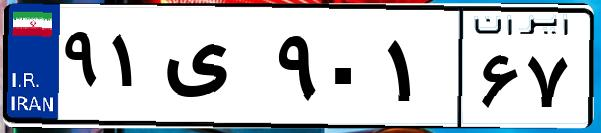0: (330, 28, 385, 110)
1: (385, 28, 445, 110), (110, 28, 158, 98)
6: (475, 38, 525, 113)
7: (525, 38, 570, 115)
9: (270, 28, 330, 110), (57, 26, 110, 100)
ی: (158, 20, 270, 120)
